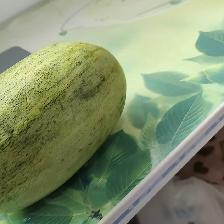gua: (28, 57, 108, 152)
